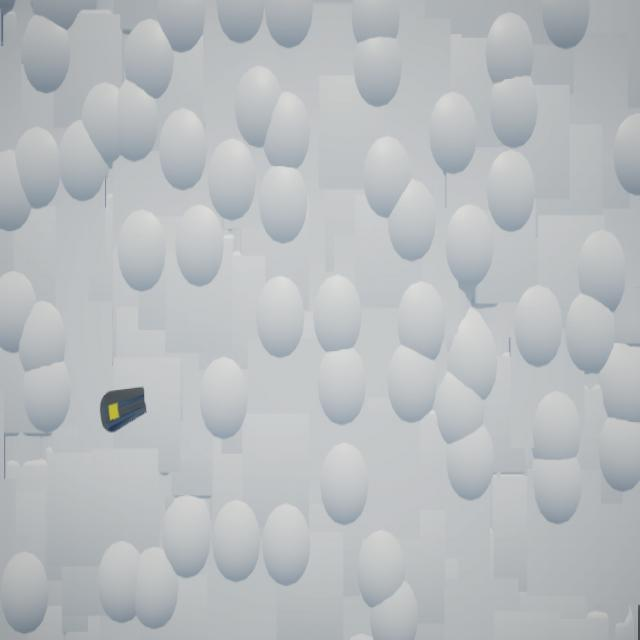handle_folk: (101, 388, 148, 434)
